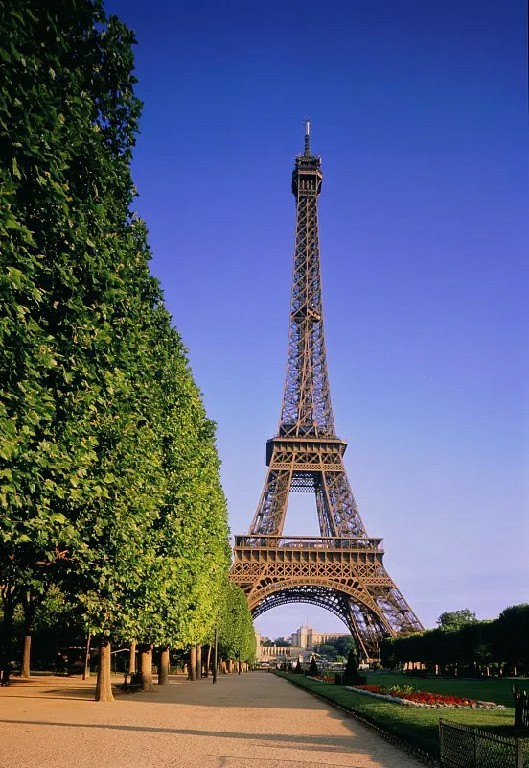Eiffel: (227, 117, 427, 668)
